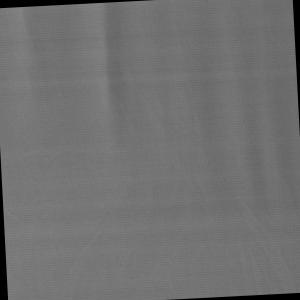Wrinkle: (228, 1, 286, 253), (89, 2, 134, 150), (3, 7, 53, 109)
